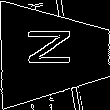N_E: (28, 34, 82, 75)
